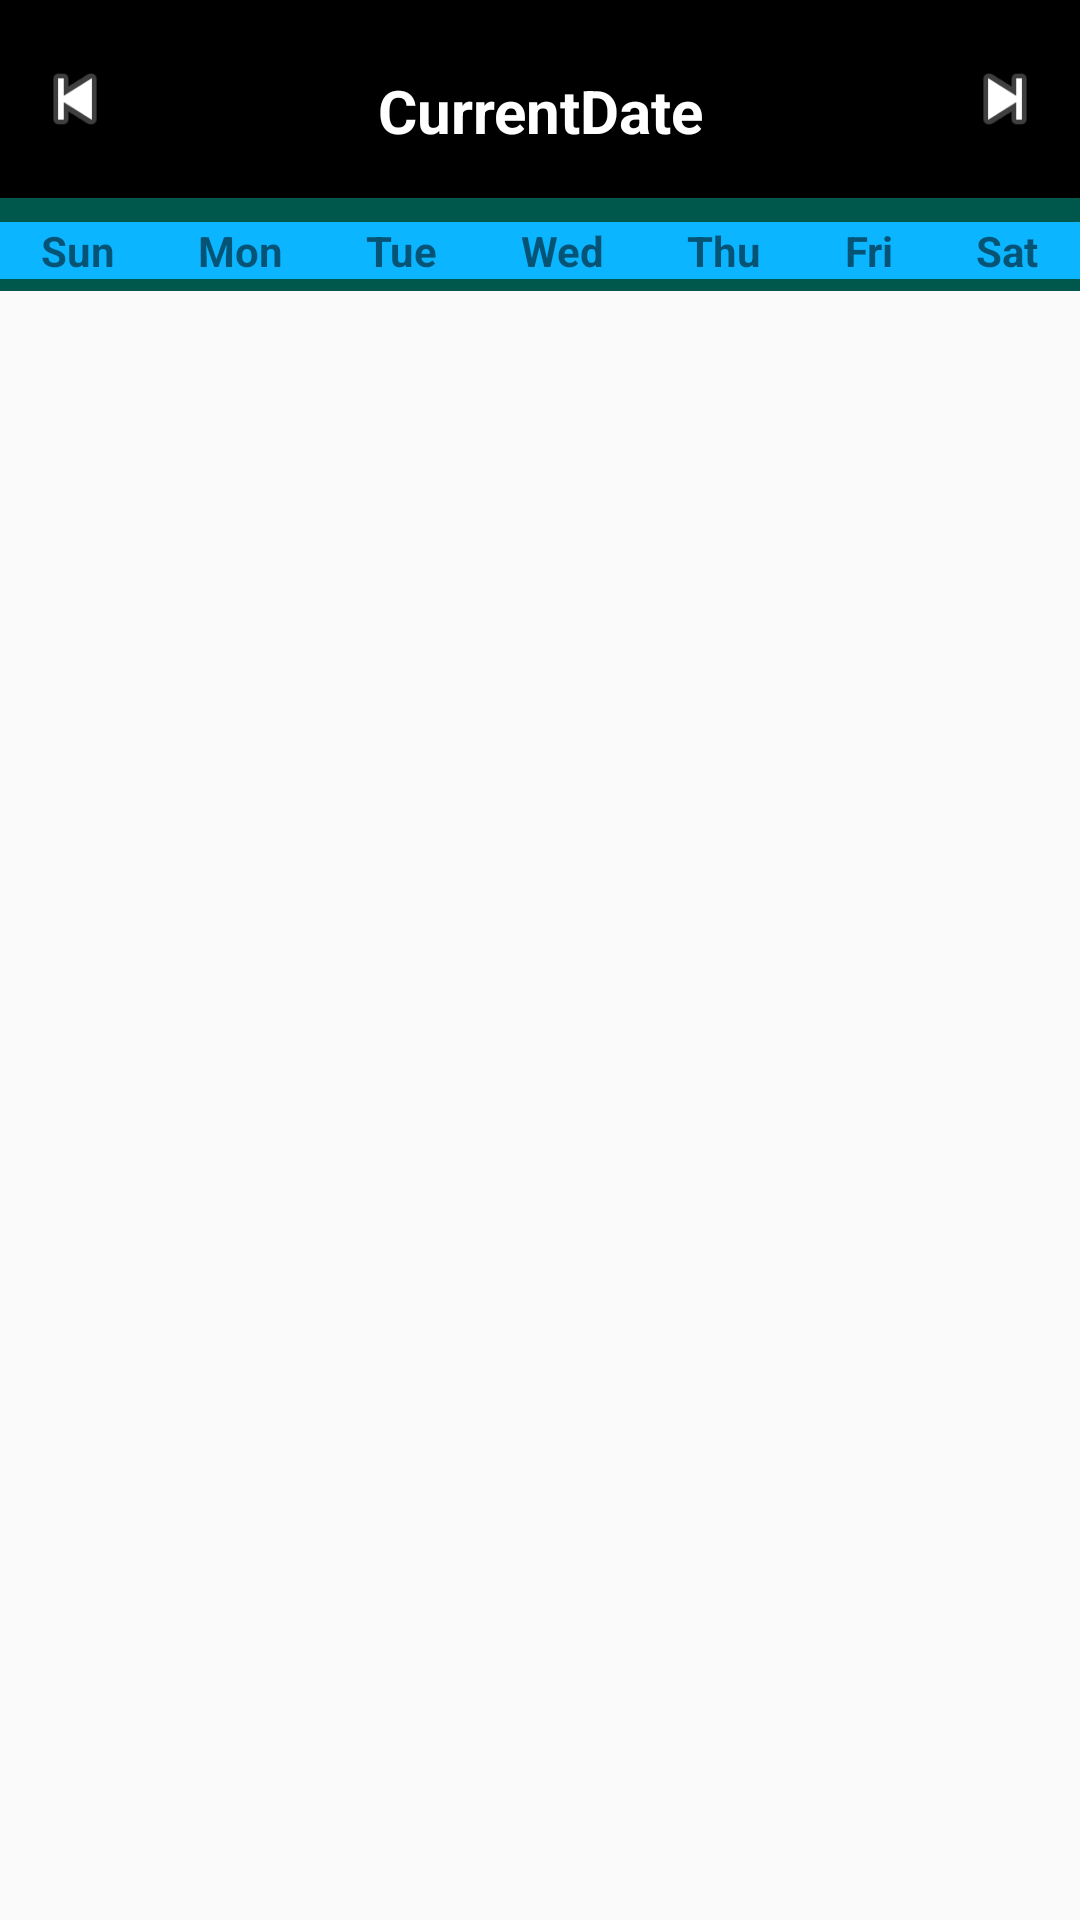

Point at icon controls on the screen. Image size 1080px x 1920px, points as point (x, y).
next: point (1005, 99)
previous: point (75, 99)
